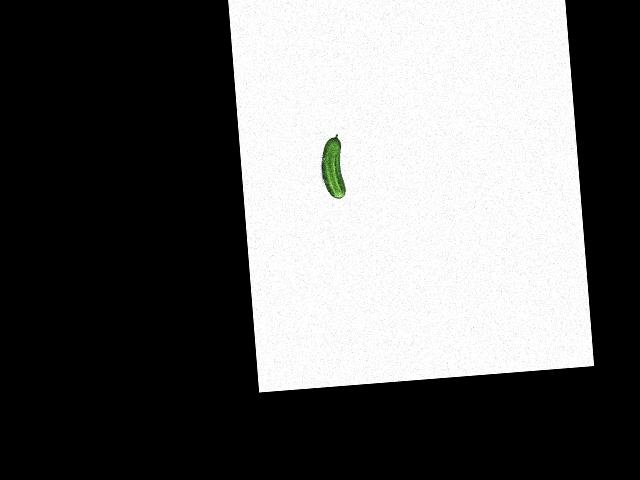cucumber: (318, 134, 345, 200)
